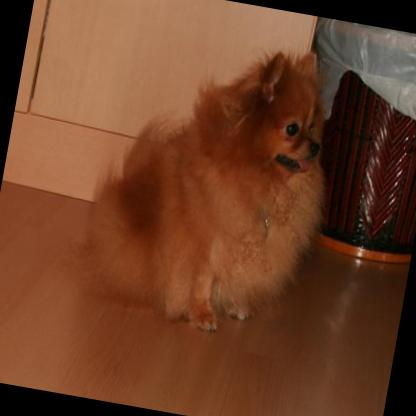Pomeranian: (72, 20, 348, 346)
